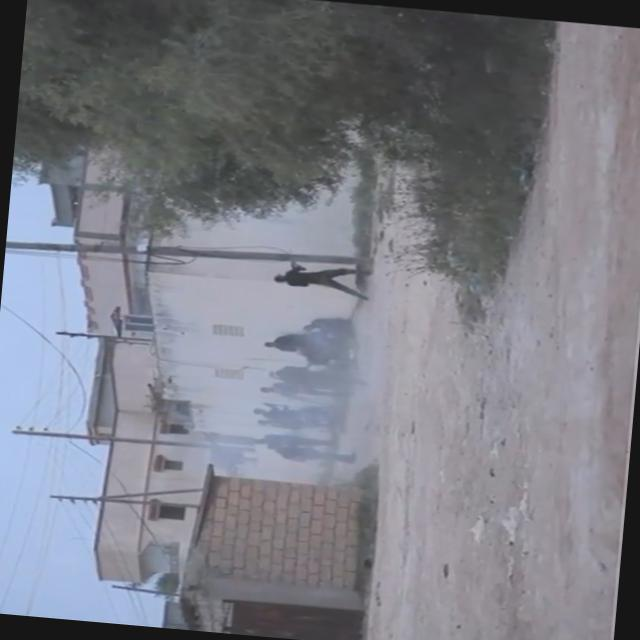long weapon: (282, 248, 312, 291)
